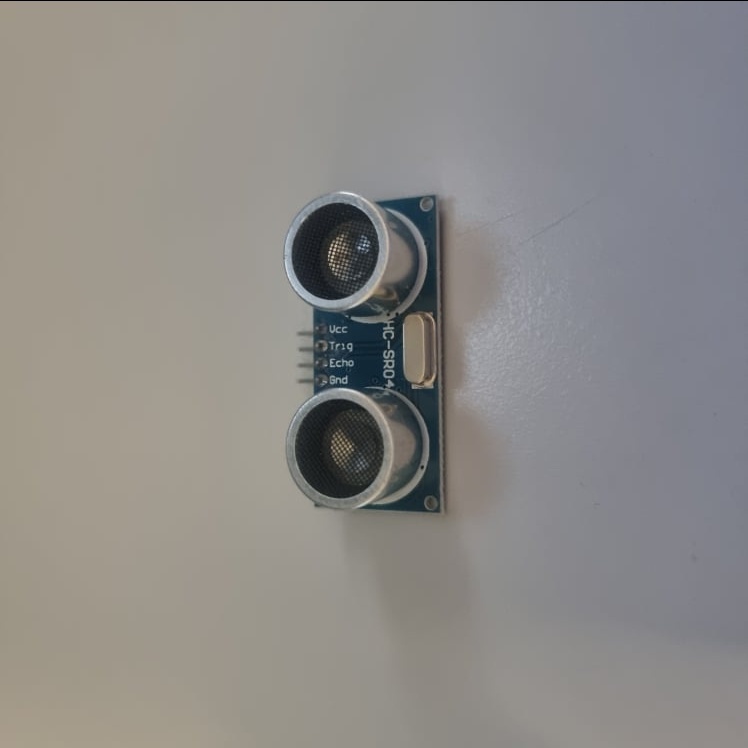SENSOR: (281, 190, 445, 514)
